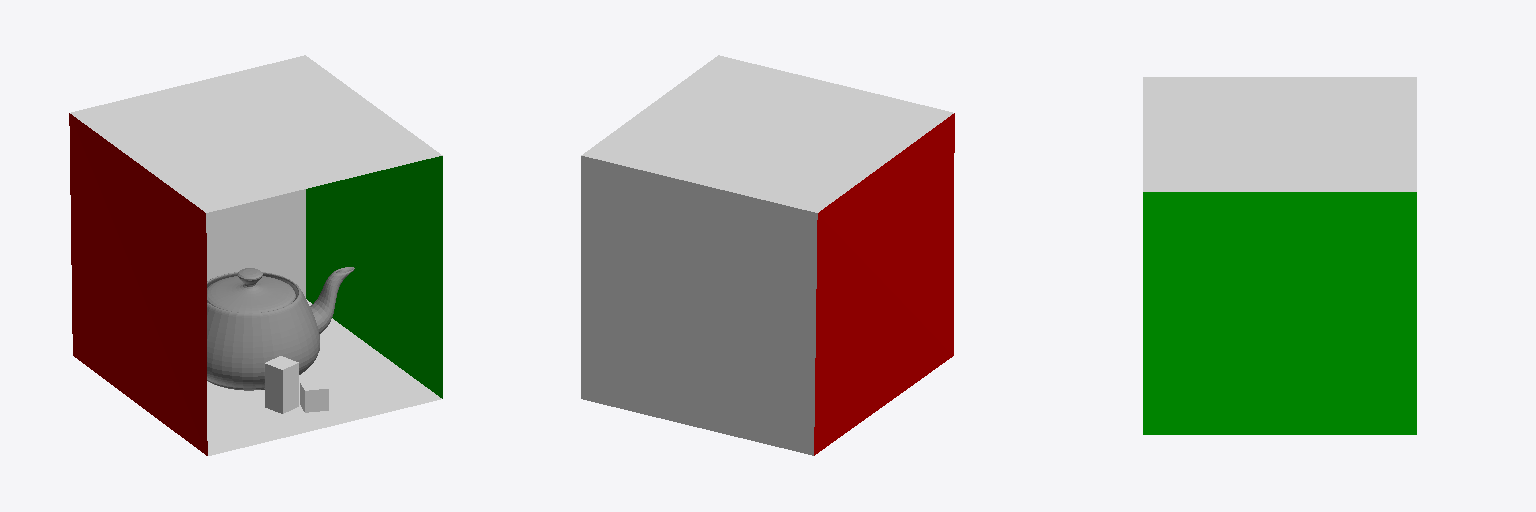
File: cornellbox-teapot.obj
3 views of the same model, side by side, from view 1: azimuth 30°, elevation 25°; view 2: azimuth 150°, elevation 25°; view 3: azimuth 270°, elevation 25° (orthographic).
Parts seen in each view (by area): view 1: leftWall, ceiling, rightWall, floor, teapot, backWall, longBox_shortBox, shortBox_leftWall.001; view 2: backWall, leftWall, ceiling; view 3: rightWall, ceiling.
Part boxes in pixels (bbox=[...]): leftWall: bbox=[69, 113, 207, 455]; ceiling: bbox=[70, 55, 442, 212]; rightWall: bbox=[306, 156, 442, 398]; floor: bbox=[207, 299, 441, 455]; teapot: bbox=[207, 267, 354, 390]; backWall: bbox=[206, 189, 305, 297]; longBox_shortBox: bbox=[265, 356, 298, 413]; shortBox_leftWall.001: bbox=[300, 379, 328, 412]; backWall: bbox=[581, 156, 817, 455]; leftWall: bbox=[814, 113, 954, 455]; ceiling: bbox=[581, 55, 953, 212]; rightWall: bbox=[1143, 192, 1416, 434]; ceiling: bbox=[1143, 77, 1416, 191].
Size of the model in its own units: 2.02 by 1.99 by 2.03.